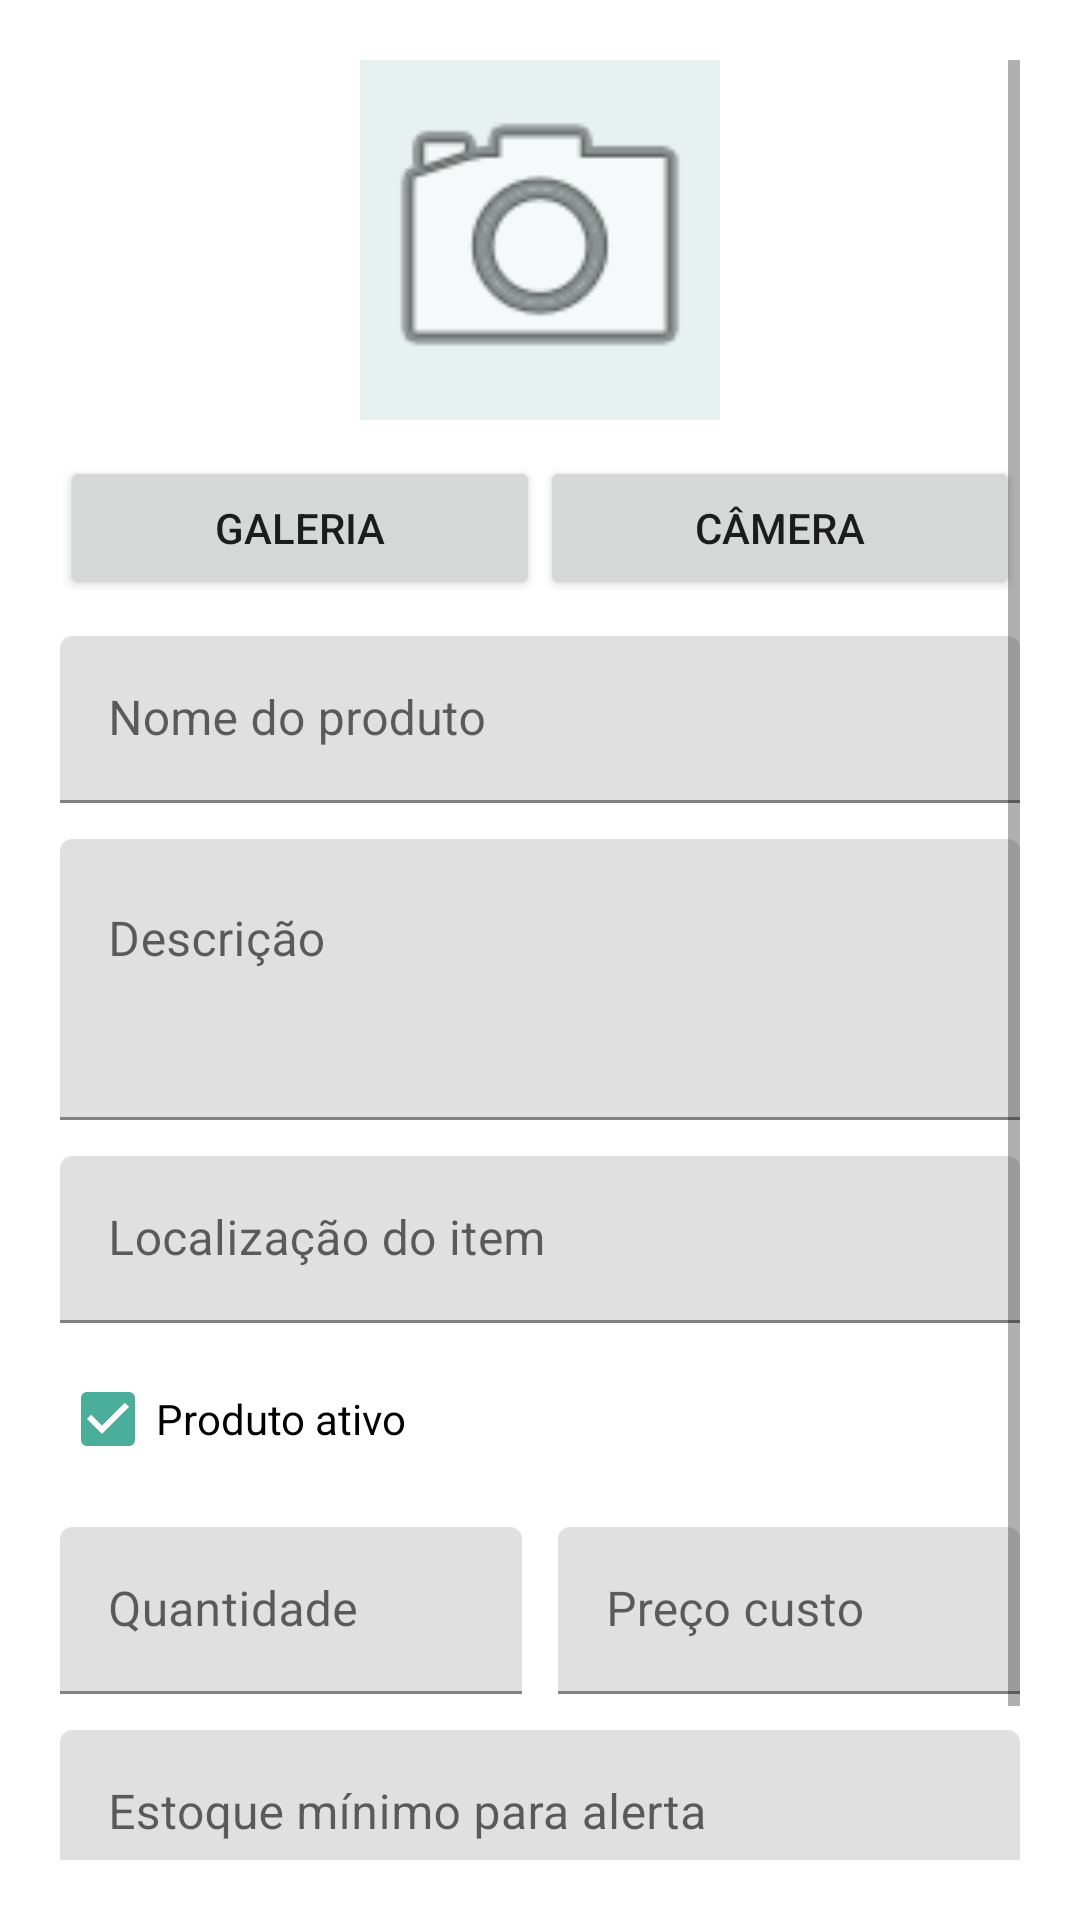

Icon bounding boxes for this 1080×1920 phone screenshot, format detection(x1, y1, x2, y2):
camera: detection(360, 60, 720, 420)
